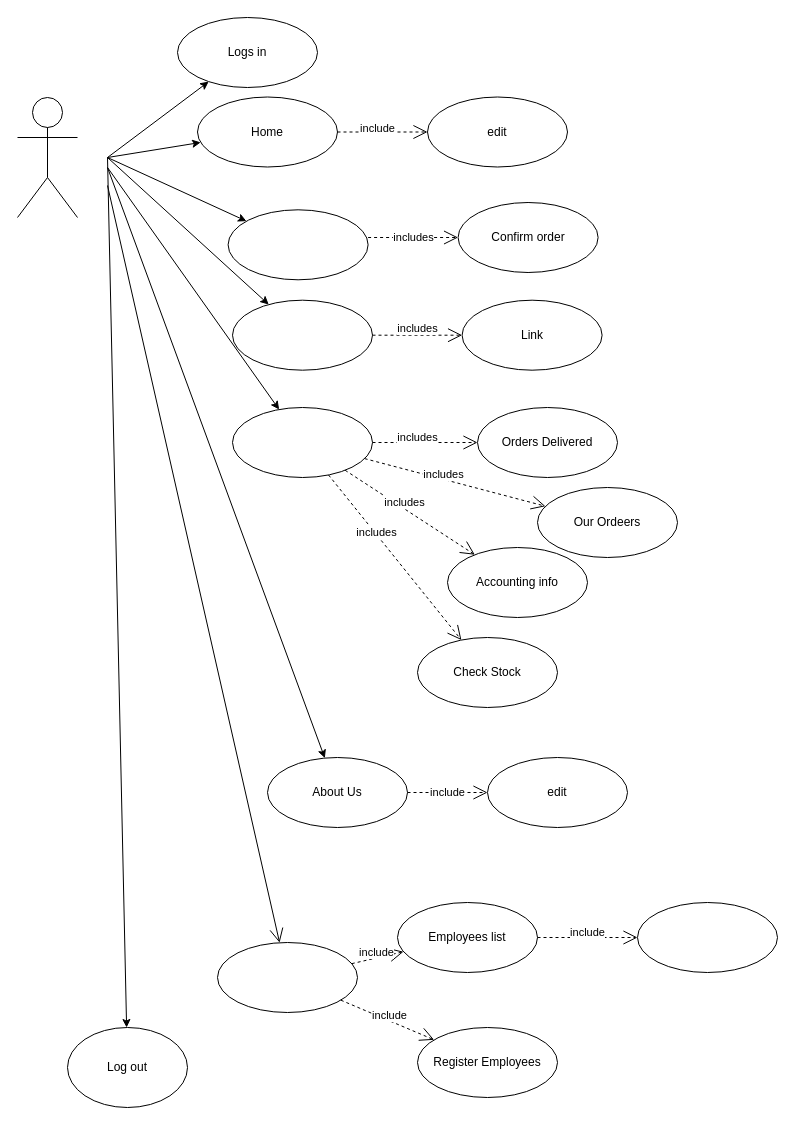
This 795x1125 diagram has some shape labels left out. Each missing label, with the centre of its shape:
"Accounting" goes at (x=302, y=442).
"Currency exchange" goes at (x=302, y=334).
"Delete" goes at (x=707, y=937).
"Employees" goes at (x=287, y=977).
"Manager" goes at (x=47, y=157).
"orders" goes at (x=297, y=244).
